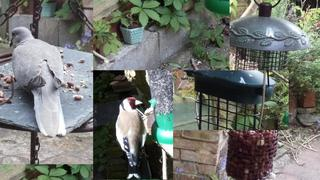collared dove: (9, 27, 66, 138)
goldfinch: (115, 97, 146, 180)
